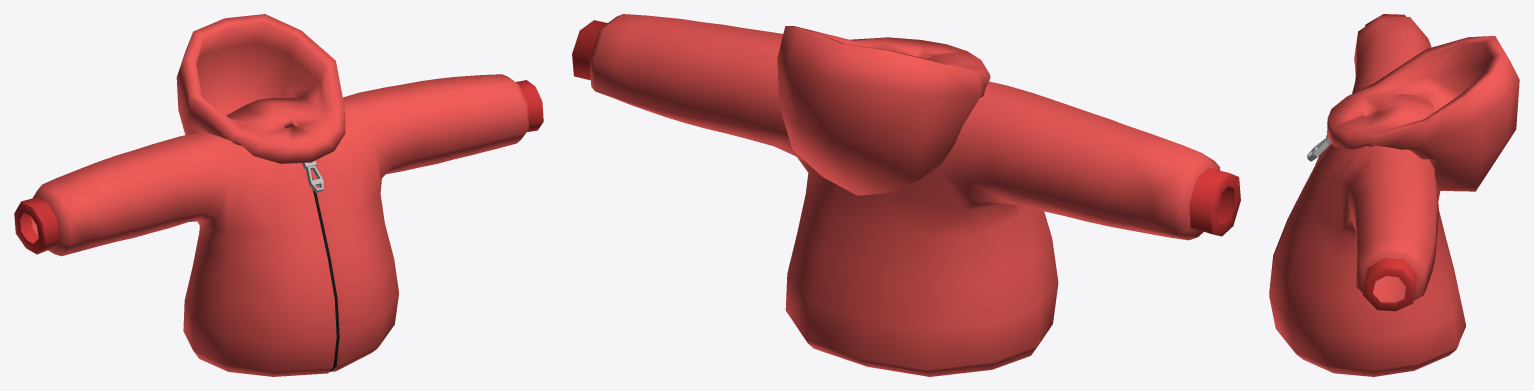
The model's file is Outerwear_Red_016.glb.
3 renders of one model, left to right at view 1: azimuth 30°, elevation 25°; view 2: azimuth 150°, elevation 25°; view 3: azimuth 270°, elevation 25°, orthographic. The views are drawn at different scales.
Visible parts, largest first — view 1: Outerwear_Red_016; view 2: Outerwear_Red_016; view 3: Outerwear_Red_016.
Part boxes in pixels (box(x1,y1,x2,y2)): Outerwear_Red_016: box(14, 14, 543, 376); Outerwear_Red_016: box(572, 14, 1240, 376); Outerwear_Red_016: box(1269, 14, 1519, 376).
Bounding box in the file's own units: 1.29 × 0.6763 × 0.5383.
1 material, 1 textured.
